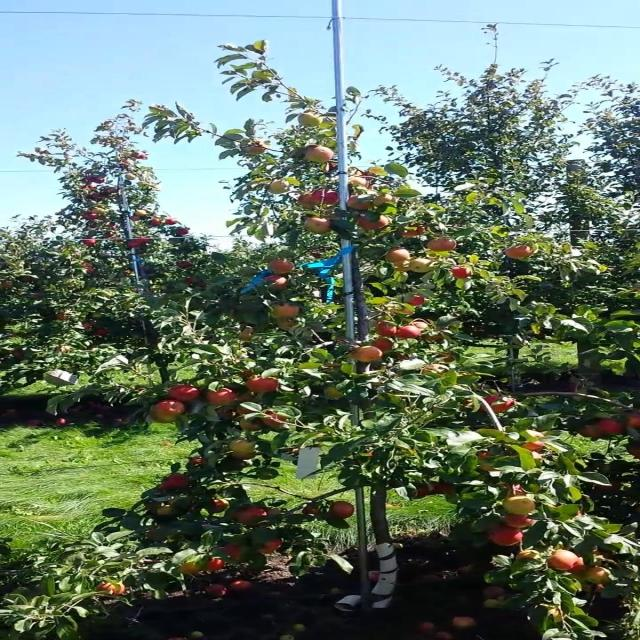apple: (490, 528, 526, 548), (504, 496, 539, 513), (547, 552, 578, 571), (483, 396, 517, 413), (234, 508, 267, 525), (404, 320, 432, 340), (170, 384, 201, 401), (205, 388, 236, 405), (596, 420, 626, 436), (582, 568, 612, 584), (269, 304, 300, 319), (305, 148, 334, 164), (305, 220, 334, 236), (355, 348, 384, 364), (156, 400, 185, 416), (362, 216, 391, 231), (241, 508, 270, 523), (248, 380, 281, 393), (504, 516, 537, 529), (262, 276, 292, 290), (262, 412, 288, 428), (348, 196, 373, 212), (426, 240, 457, 252), (269, 180, 292, 196), (525, 436, 548, 452), (269, 260, 297, 273), (262, 540, 284, 556), (504, 248, 533, 260), (163, 476, 192, 488), (99, 584, 128, 596), (333, 504, 356, 519), (404, 224, 427, 239), (504, 484, 528, 498), (248, 140, 270, 155), (298, 192, 320, 207), (596, 480, 622, 492), (390, 248, 412, 262), (582, 424, 604, 438), (348, 176, 373, 188), (177, 564, 201, 576), (412, 260, 434, 273), (234, 440, 256, 453), (205, 560, 228, 572), (397, 328, 420, 340), (227, 544, 242, 562), (568, 560, 587, 574), (376, 324, 398, 336), (433, 484, 455, 496), (241, 420, 263, 432), (156, 412, 178, 424), (326, 388, 347, 400), (298, 116, 320, 127), (376, 340, 396, 352), (625, 412, 639, 429), (390, 260, 411, 271), (276, 320, 299, 330), (412, 320, 432, 331), (625, 444, 639, 459), (241, 392, 260, 403), (305, 504, 322, 516), (362, 168, 384, 177), (241, 328, 256, 341), (212, 500, 228, 512), (234, 452, 258, 460), (326, 192, 341, 204), (454, 268, 469, 280), (376, 196, 396, 205), (220, 408, 235, 420), (440, 352, 455, 364), (156, 508, 178, 516), (518, 552, 540, 560), (426, 364, 443, 374), (412, 296, 427, 307), (234, 408, 254, 416), (476, 452, 494, 460), (426, 336, 446, 343), (483, 464, 500, 472), (419, 488, 432, 498), (241, 372, 256, 379), (191, 460, 206, 465), (397, 356, 412, 360)
